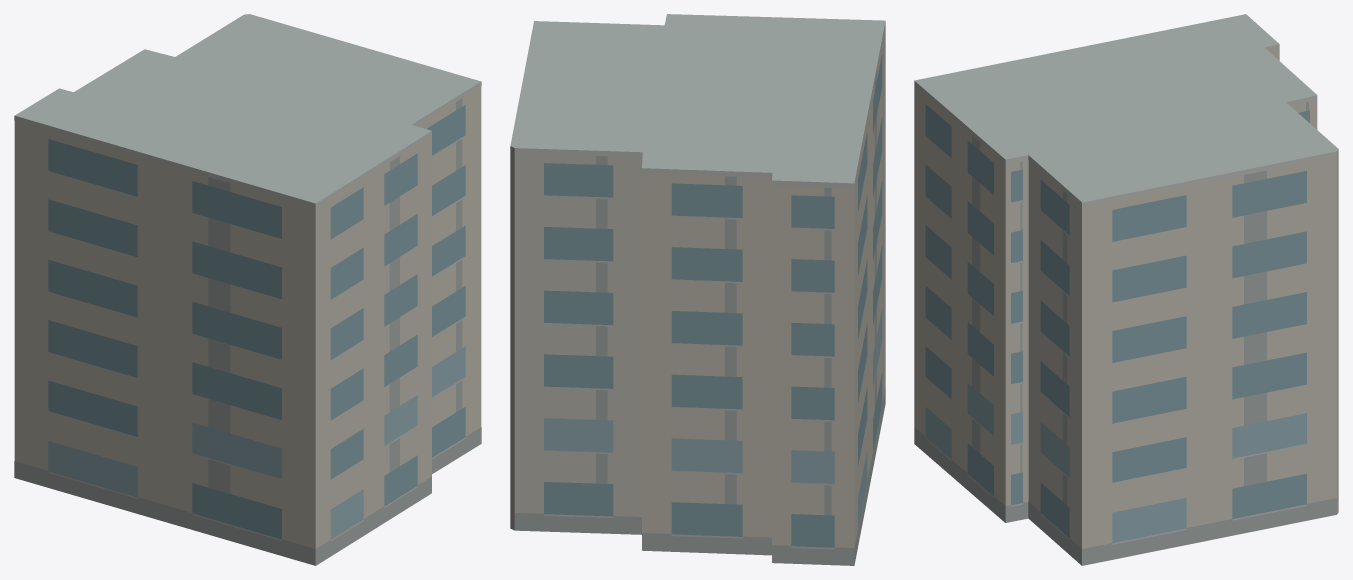
The model's file is survey-upis-32995110.glb.
3 renders of one model, left to right at view 1: azimuth 30°, elevation 25°; view 2: azimuth 150°, elevation 25°; view 3: azimuth 270°, elevation 25°, orthographic. The views are drawn at different scales.
Parts seen in each view (by area): view 1: survey-upis-32995110.tmp; view 2: survey-upis-32995110.tmp; view 3: survey-upis-32995110.tmp.
Part boxes in pixels (x1,y1,x2,y2): survey-upis-32995110.tmp: (14,14,481,565); survey-upis-32995110.tmp: (510,14,885,565); survey-upis-32995110.tmp: (914,14,1338,565).
Bounding box in the file's own units: 19.92 × 17.9 × 18.95.
